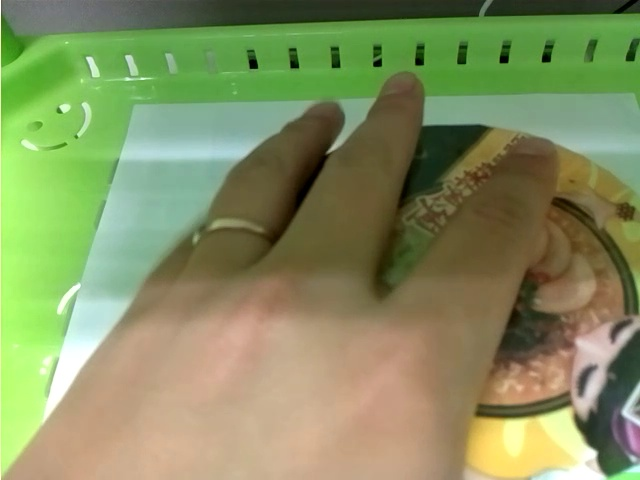hand: (36, 72, 561, 480)
noodles: (401, 124, 640, 480)
